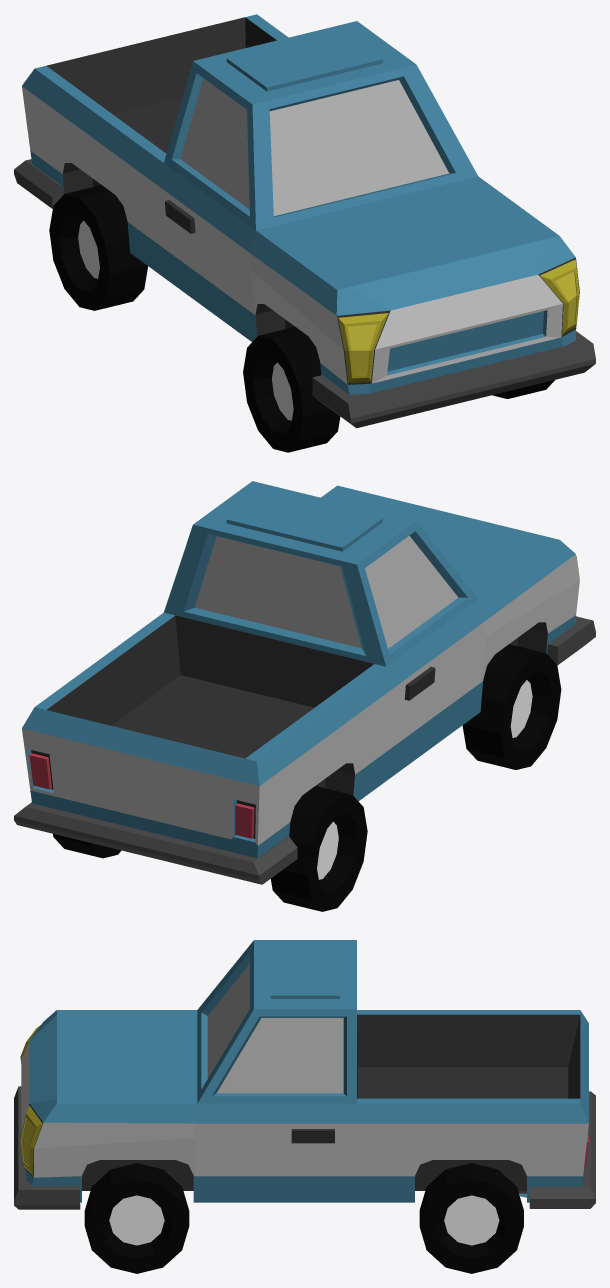
The model's file is SportsCarLowPoly_5.fbx.
The picture shows the model from 3 angles, top to bottom: view 1: azimuth 30°, elevation 25°; view 2: azimuth 150°, elevation 25°; view 3: azimuth 270°, elevation 25°; orthographic projection. The views are drawn at different scales.
Parts seen in each view (by area): view 1: Cube, Cylinder, Cube.002, Cube.006, Cube.003; view 2: Cube, Cylinder, Cube.003, Cube.005, Cube.002; view 3: Cube, Cylinder, Cube.002, Cube.003, Cube.006, Cube.004.
Part boxes in pixels (left/top/right/bottom): Cube: left=22, top=14, right=579, bottom=395; Cylinder: left=49, top=185, right=554, bottom=452; Cube.002: left=312, top=331, right=595, bottom=428; Cube.006: left=338, top=259, right=579, bottom=383; Cube.003: left=14, top=159, right=62, bottom=208; Cube: left=22, top=481, right=579, bottom=858; Cylinder: left=53, top=644, right=561, bottom=911; Cube.003: left=14, top=802, right=297, bottom=884; Cube.005: left=29, top=753, right=254, bottom=838; Cube.002: left=547, top=616, right=595, bottom=665; Cube: left=21, top=940, right=588, bottom=1202; Cylinder: left=84, top=1163, right=523, bottom=1273; Cube.002: left=14, top=1086, right=80, bottom=1209; Cube.003: left=529, top=1091, right=595, bottom=1208; Cube.006: left=20, top=1025, right=42, bottom=1175; Cube.004: left=291, top=1129, right=334, bottom=1143.
Size of the model in its own units: 347 by 369 by 785.
1 material, 1 textured.
